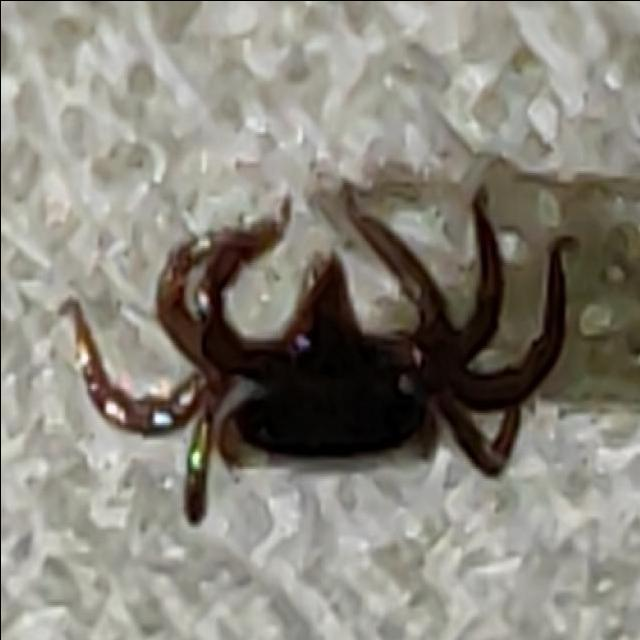Ixodes Ricinus-F: (63, 199, 566, 523)
